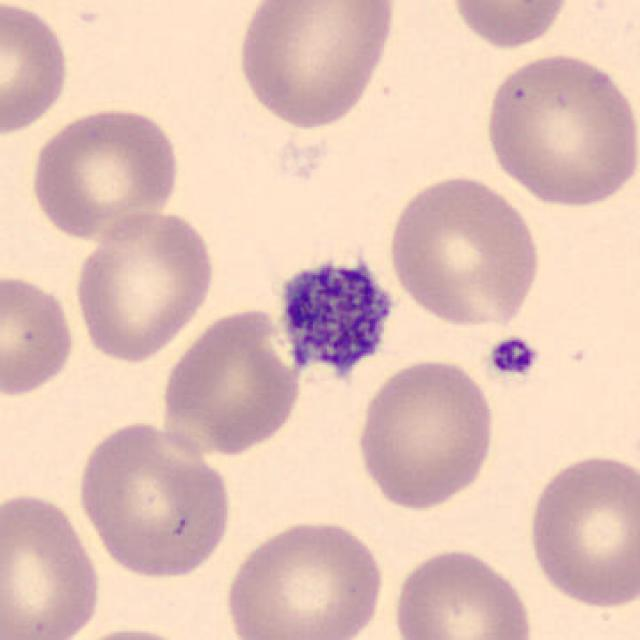Platelets: (270, 250, 398, 392), (486, 333, 542, 381)
RBC: (73, 418, 236, 582), (382, 170, 544, 332), (480, 49, 638, 210), (350, 354, 500, 513), (156, 302, 306, 458), (71, 206, 219, 363), (27, 102, 185, 242), (233, 0, 400, 132), (220, 515, 388, 640), (523, 448, 638, 612), (0, 488, 105, 640), (388, 543, 538, 640), (0, 268, 78, 400), (0, 0, 73, 139), (444, 0, 576, 51), (61, 624, 202, 640)
